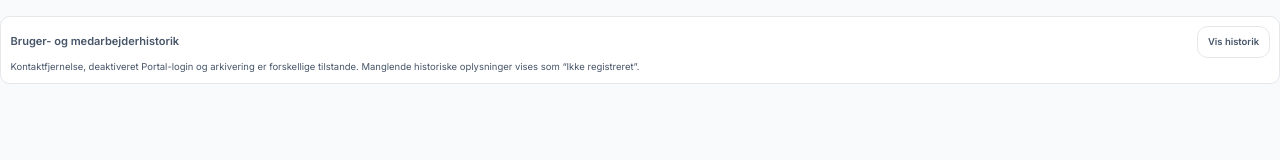
Test: Backend documented history › does not fall back to fabricated histories if the server denies access
The image size is (1280, 160).
Click the button "Vis historik".
click(1234, 42)  # box [1198, 26, 1270, 58]
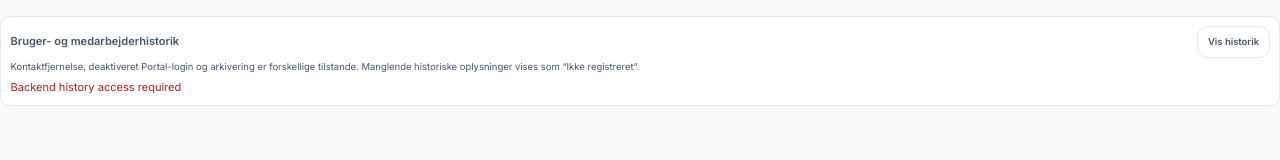
Result: the message reads "Backend history access required" at [10, 80, 181, 94]
